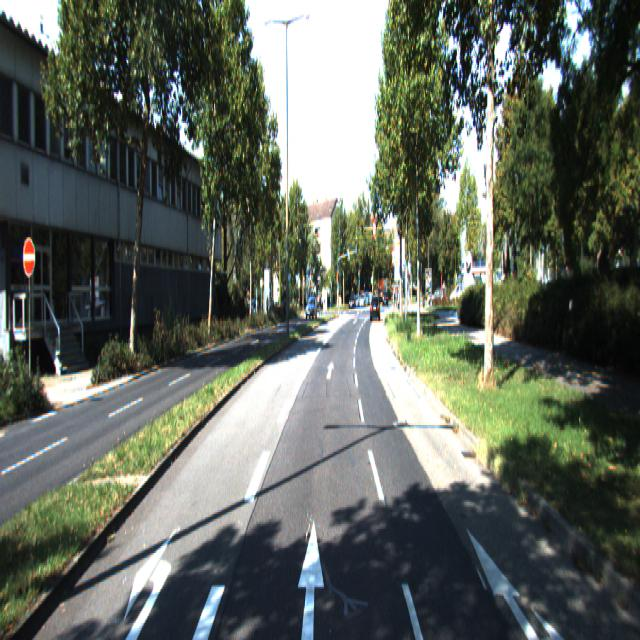Car: (305, 297, 318, 321), (370, 293, 380, 321)
